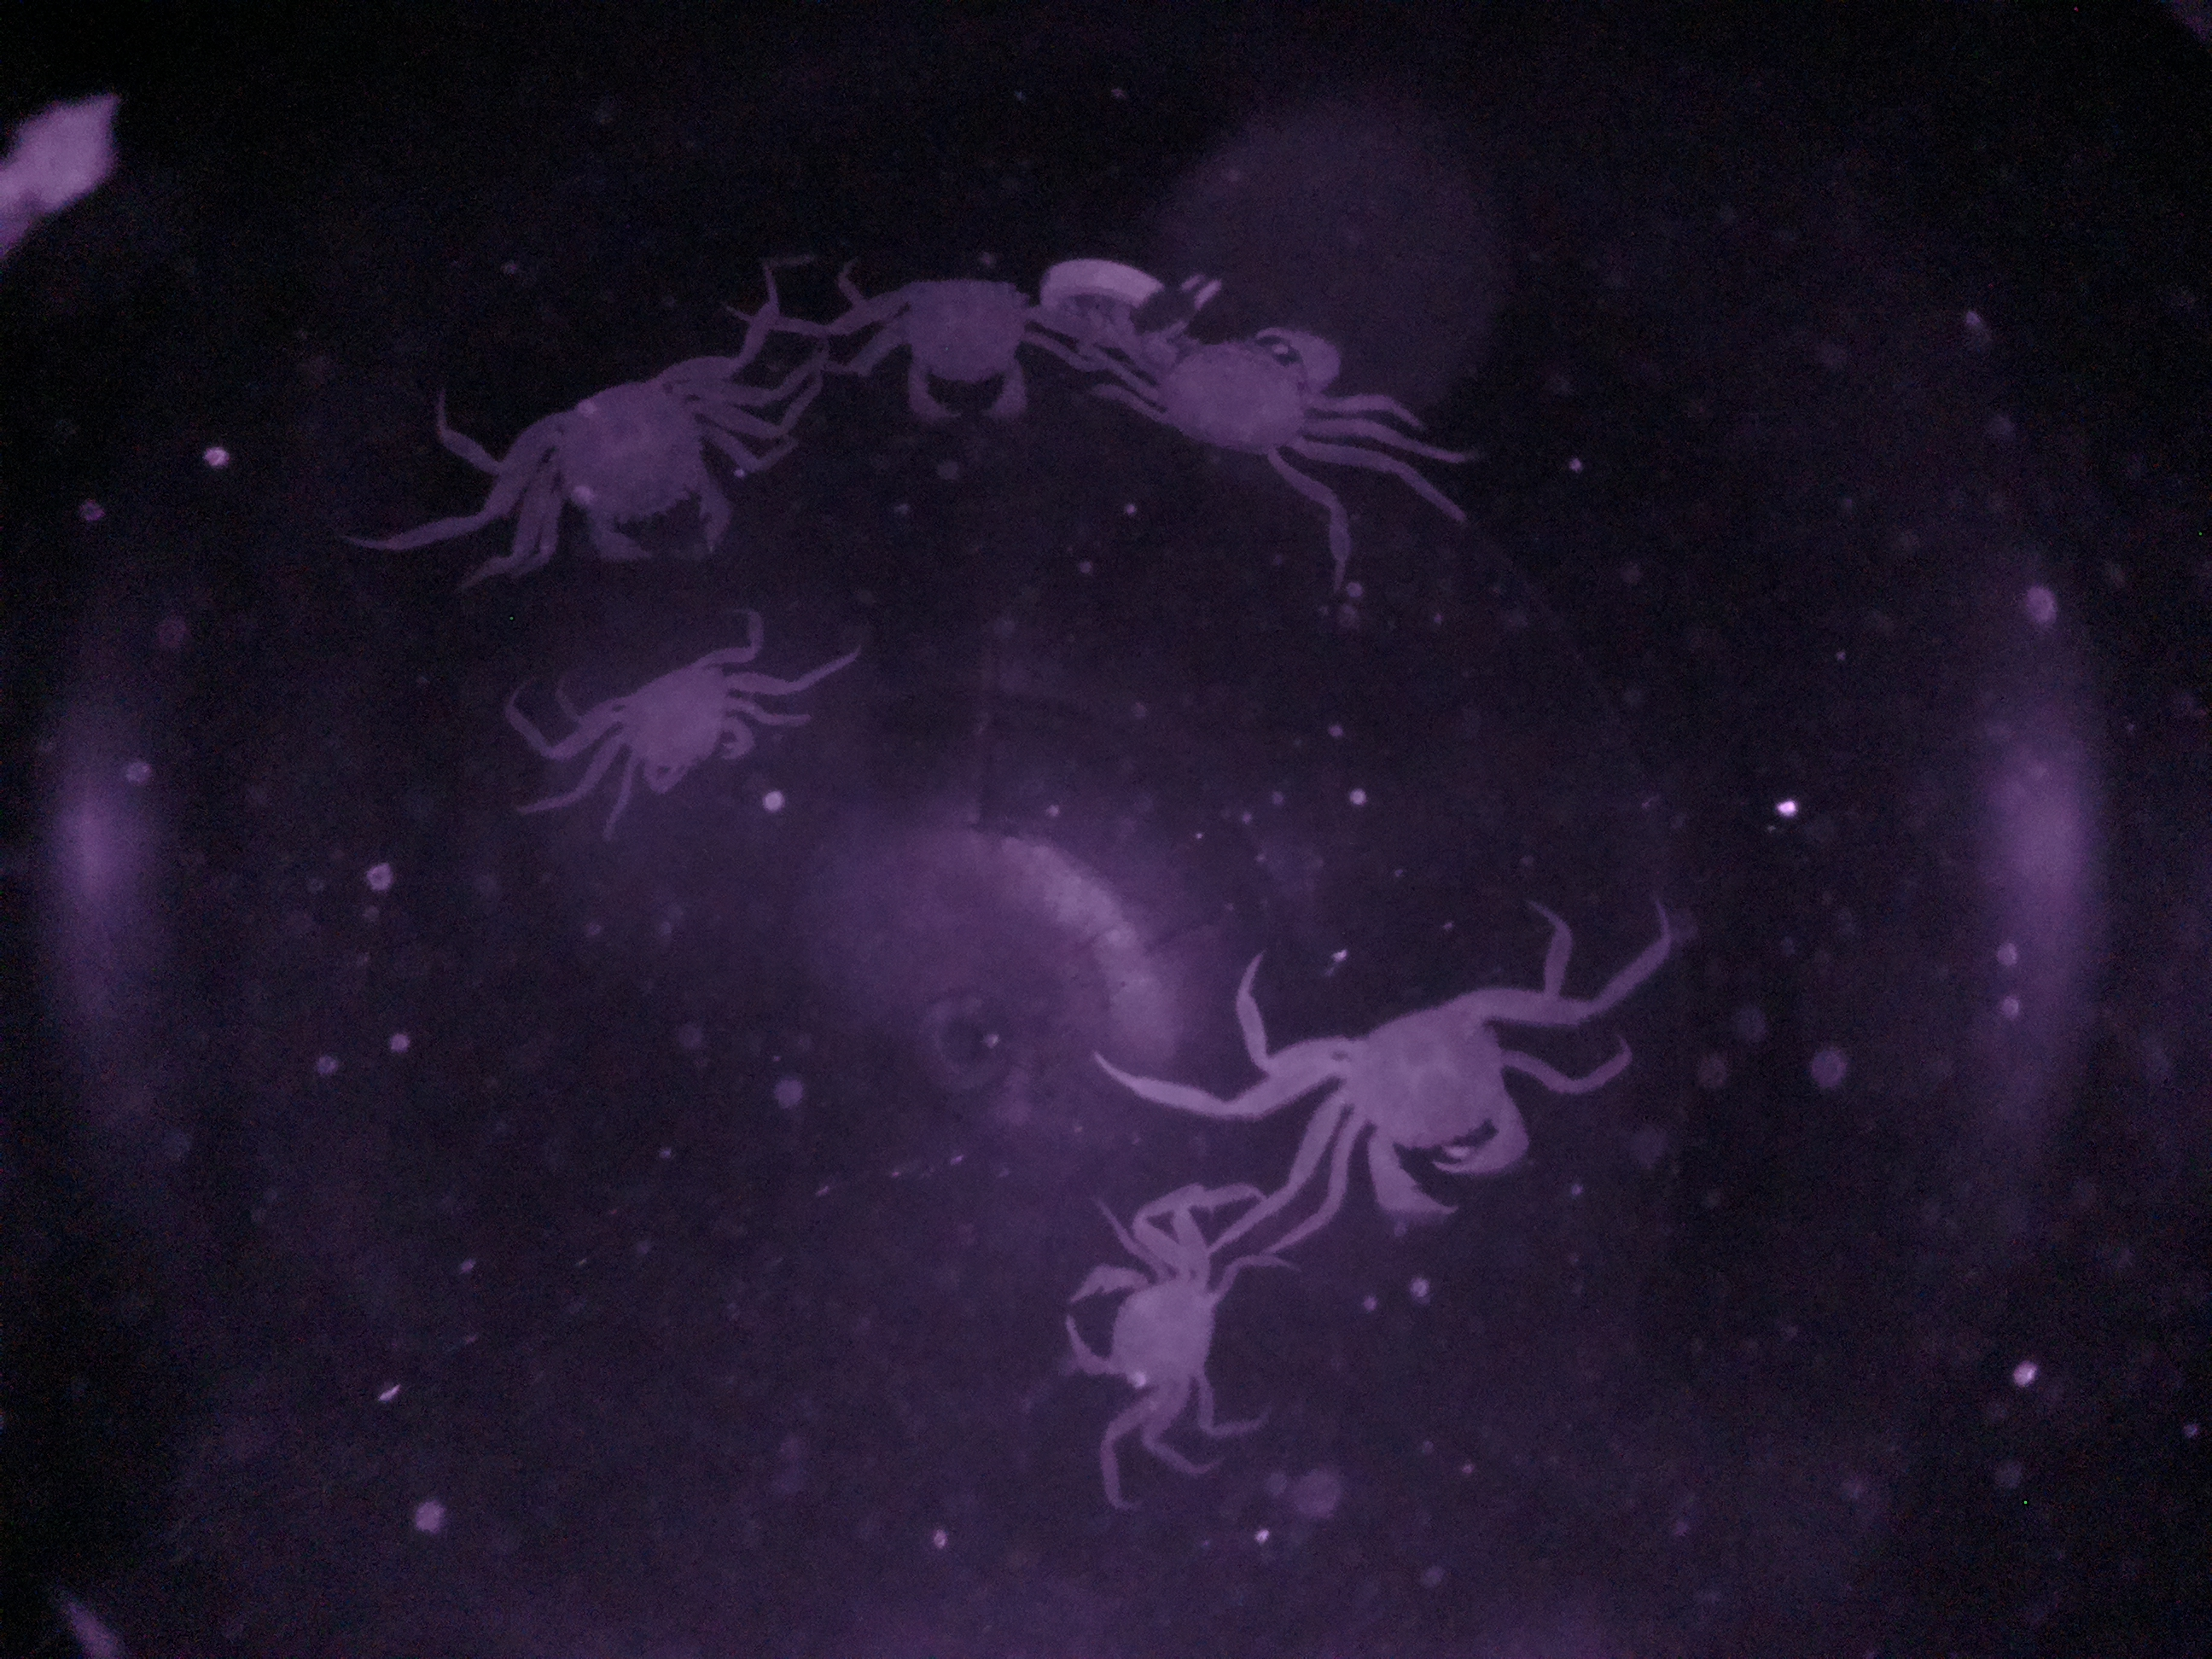Crab: (1285, 978, 1590, 1234), (510, 359, 770, 570), (1132, 281, 1367, 502), (1036, 1202, 1233, 1438), (549, 645, 794, 803), (864, 263, 1047, 432)
